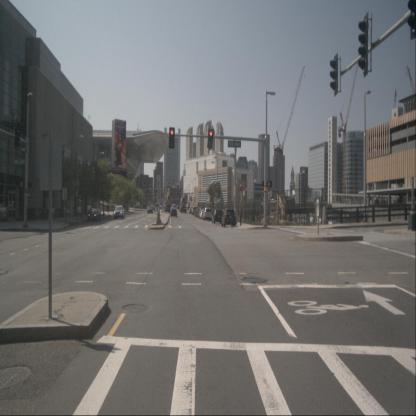barrier: (156, 204, 162, 224)
